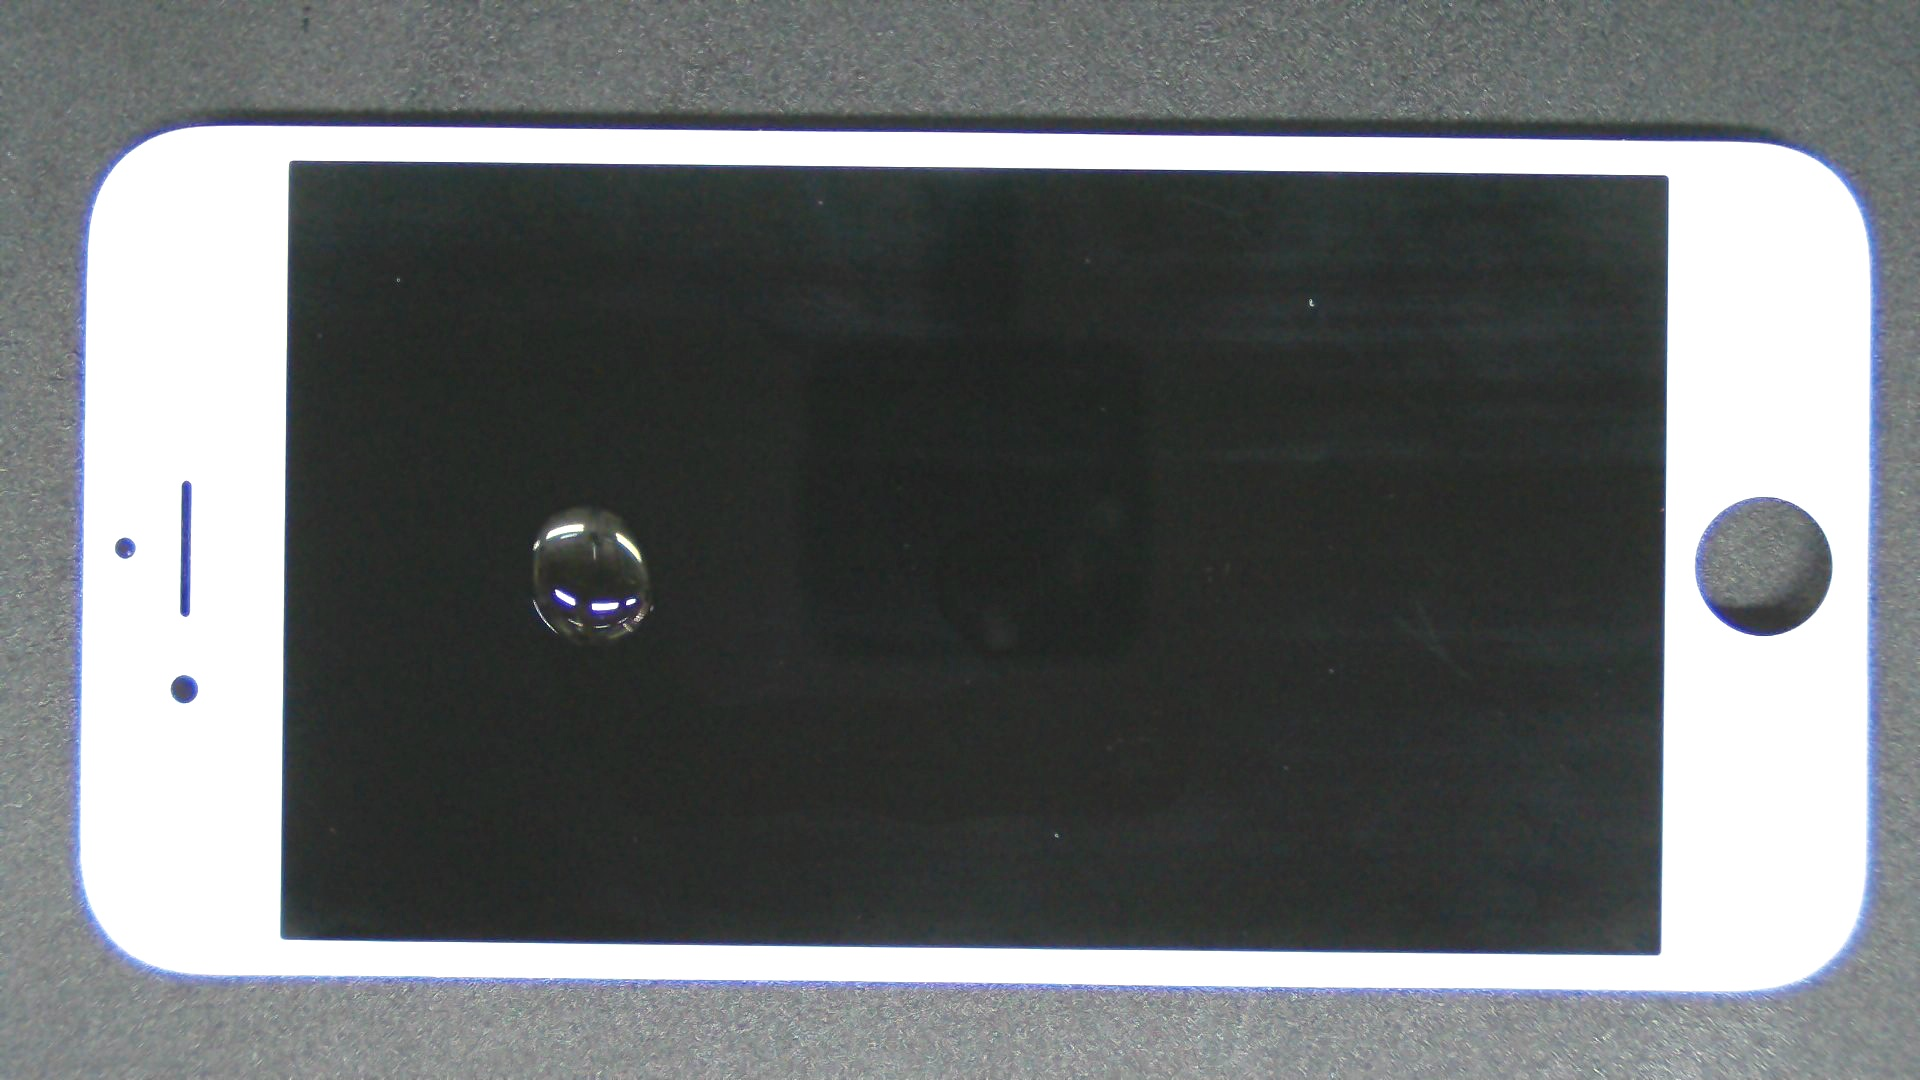oil: (290, 252, 869, 760)
